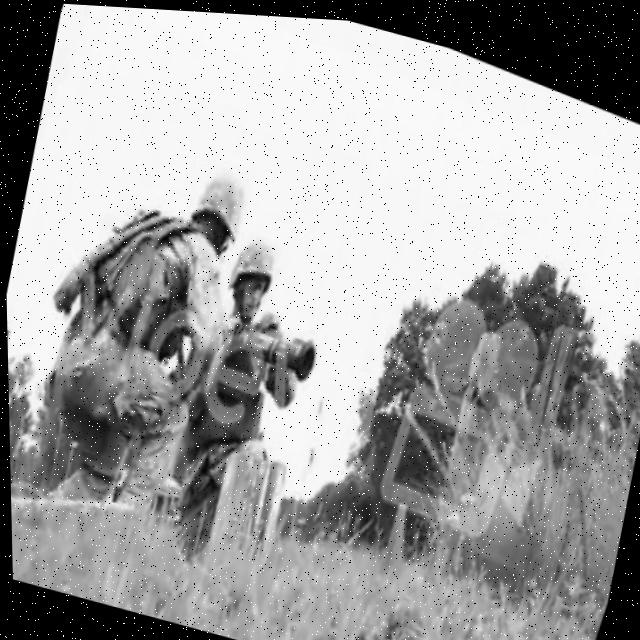rocket: (221, 304, 319, 382)
